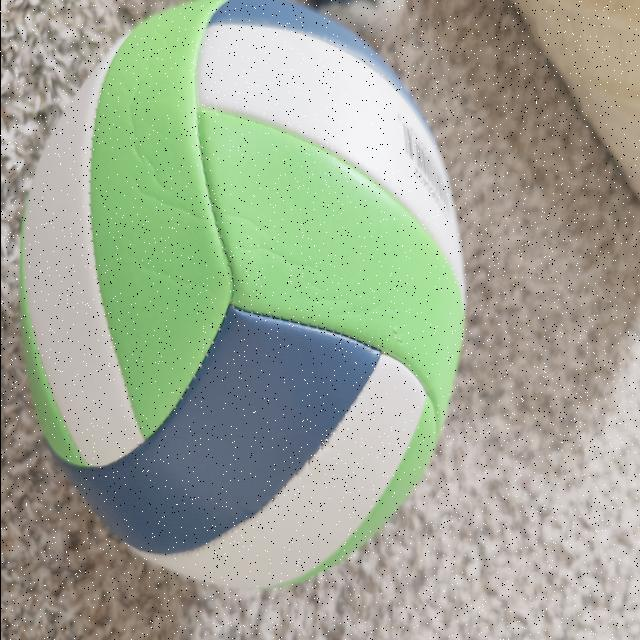ball: (9, 0, 473, 606)
